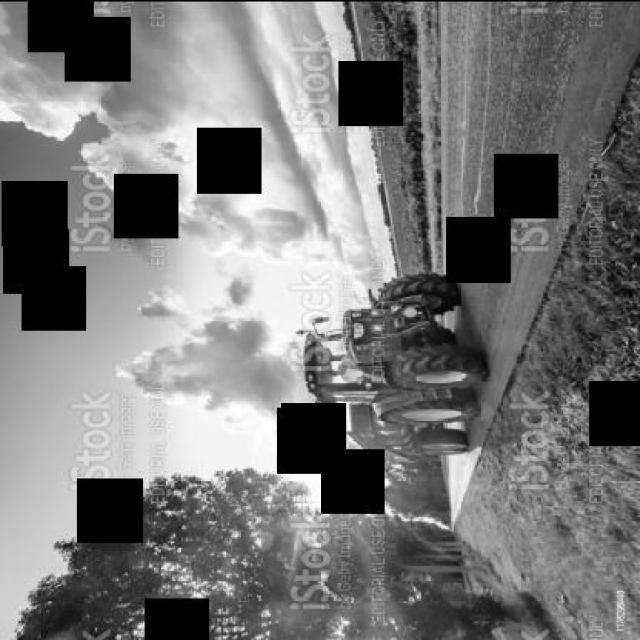Tratores - v5 YOLO V8L 2024-11-13: (275, 264, 543, 483)
